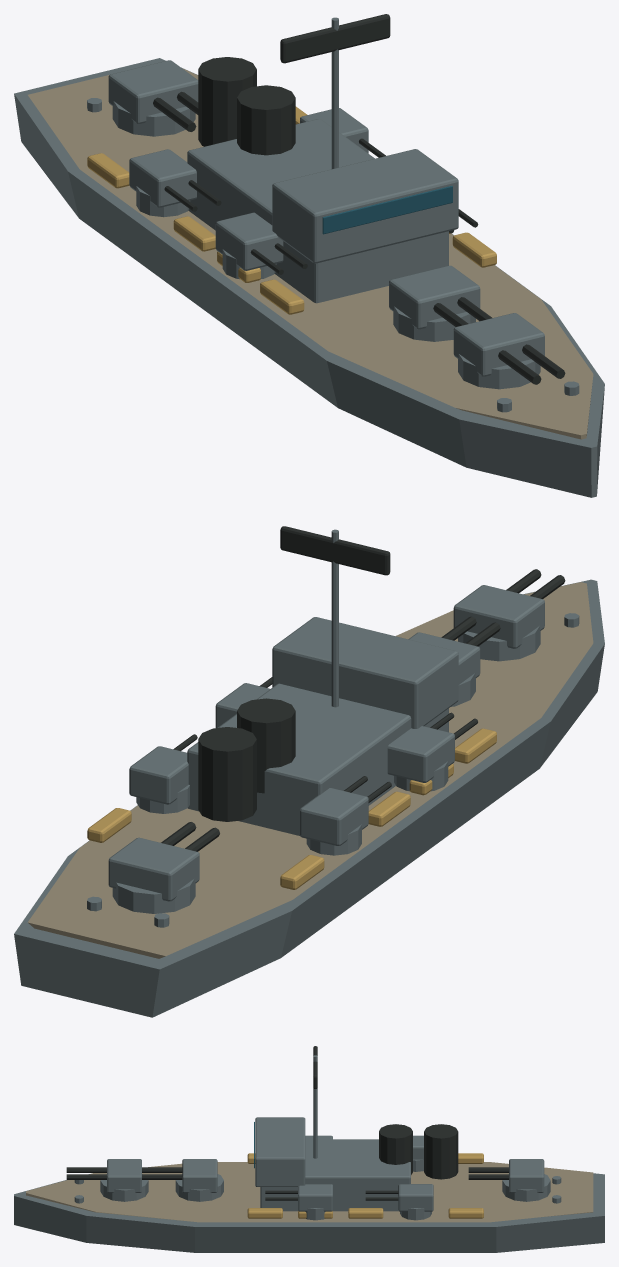
The model's file is battleship.glb.
The picture shows the model from 3 angles, top to bottom: view 1: azimuth 30°, elevation 25°; view 2: azimuth 150°, elevation 25°; view 3: azimuth 270°, elevation 25°; orthographic projection. The views are drawn at different scales.
Parts seen in each view (by area): view 1: battleship_airframe; view 2: battleship_airframe; view 3: battleship_airframe.
Boxes of the visible parts, x1=… form: battleship_airframe: x1=14, y1=14, x2=604, y2=497; battleship_airframe: x1=14, y1=526, x2=604, y2=1017; battleship_airframe: x1=14, y1=1046, x2=604, y2=1252.
Size of the model in its own units: 3 by 3.69 by 11.76.
